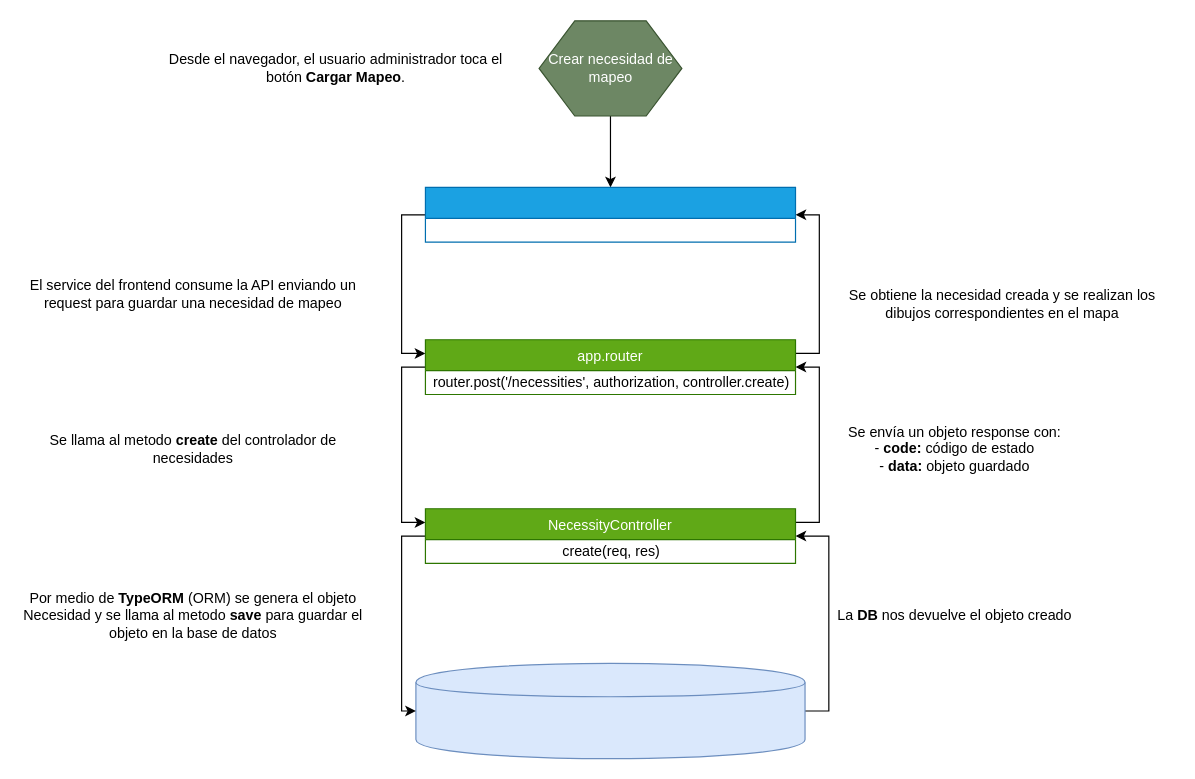
Some shapes in this 1195 by 779 pixel diagram are drawn without their labels. The centre of each missing label's shape, as x and y in pixels:
MySQL database: (610,710)
Service: (610,214)
